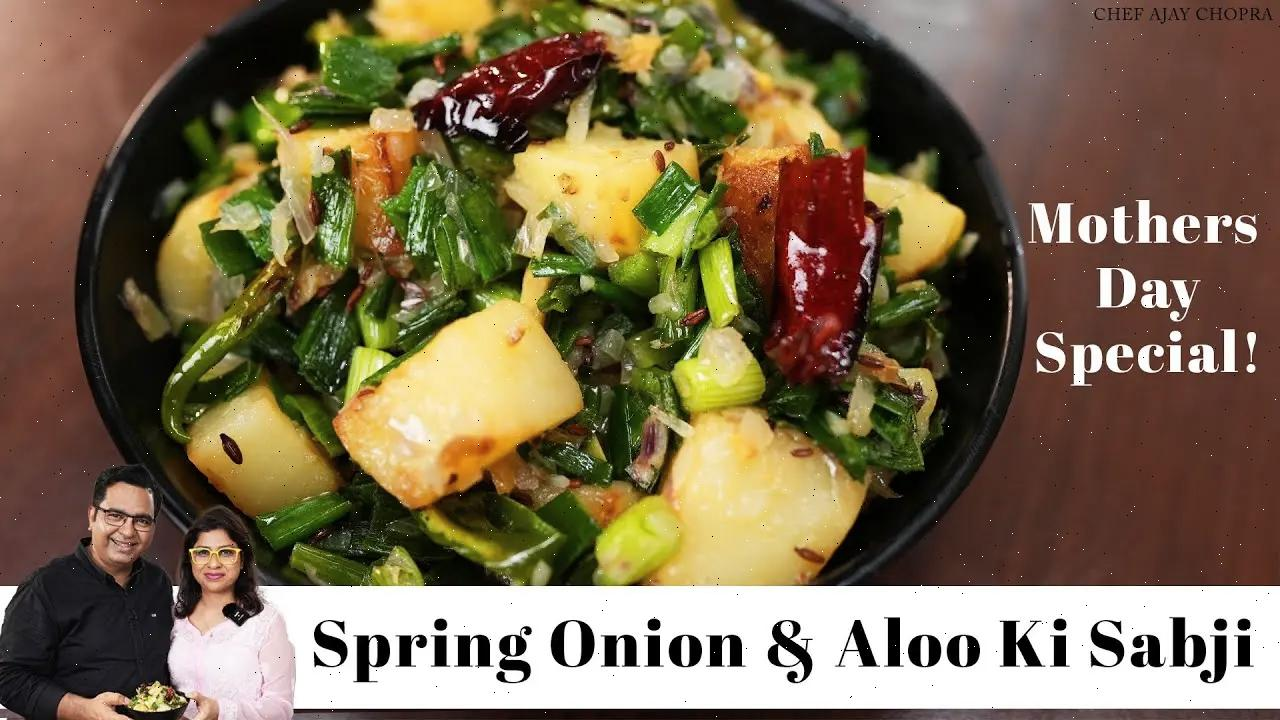aloo sabji: (151, 33, 951, 560)
